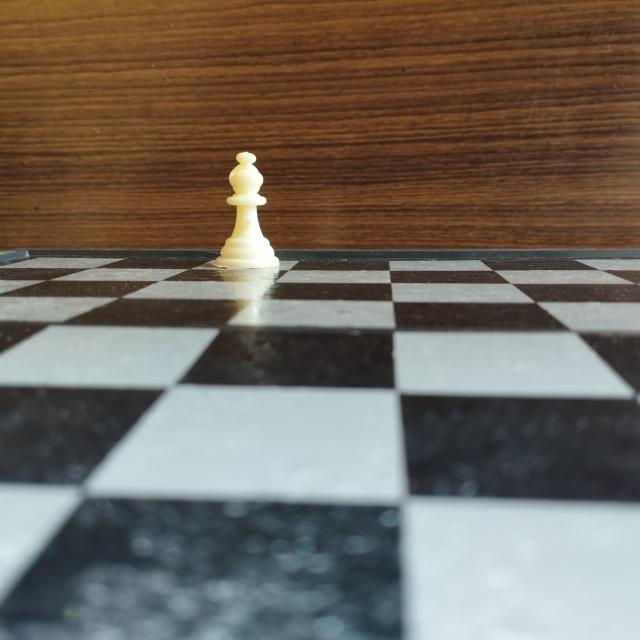White Bishop: (212, 142, 287, 275)
